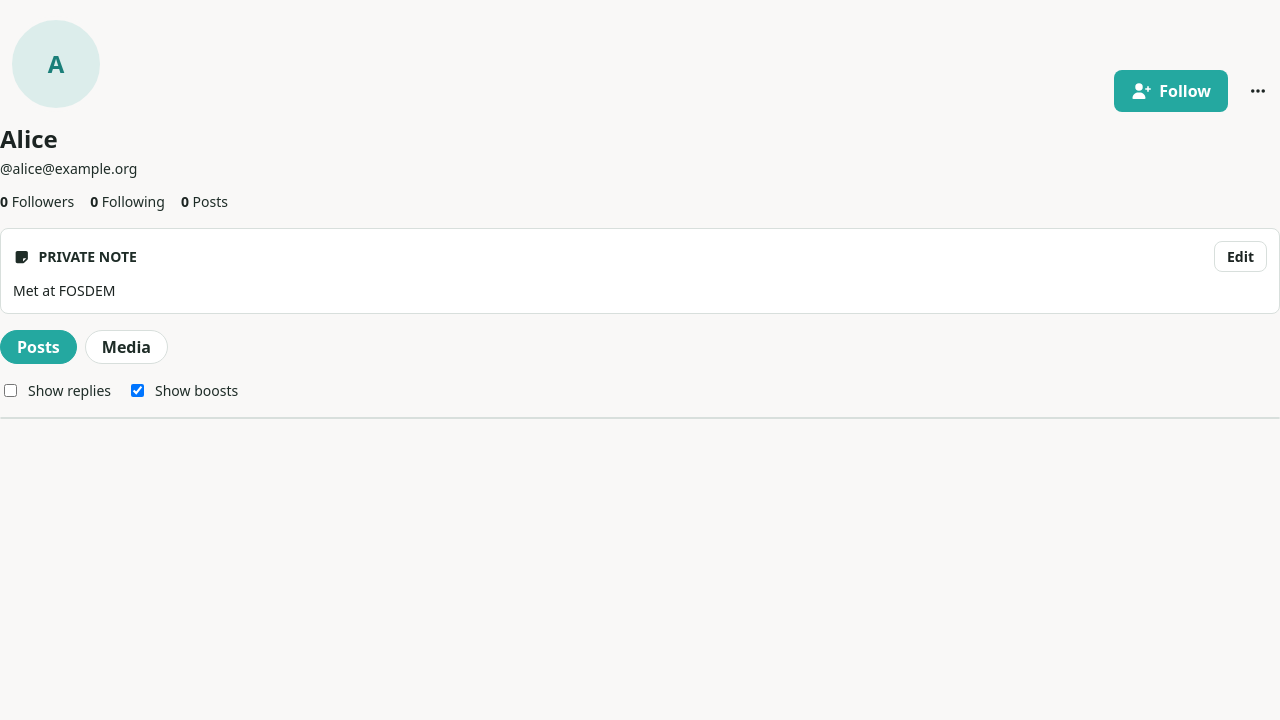
ProfilePage › opens the note editor prefilled, with modal buttons in the footer
Click the button "Edit" at [1240, 256], box [1214, 241, 1267, 272]
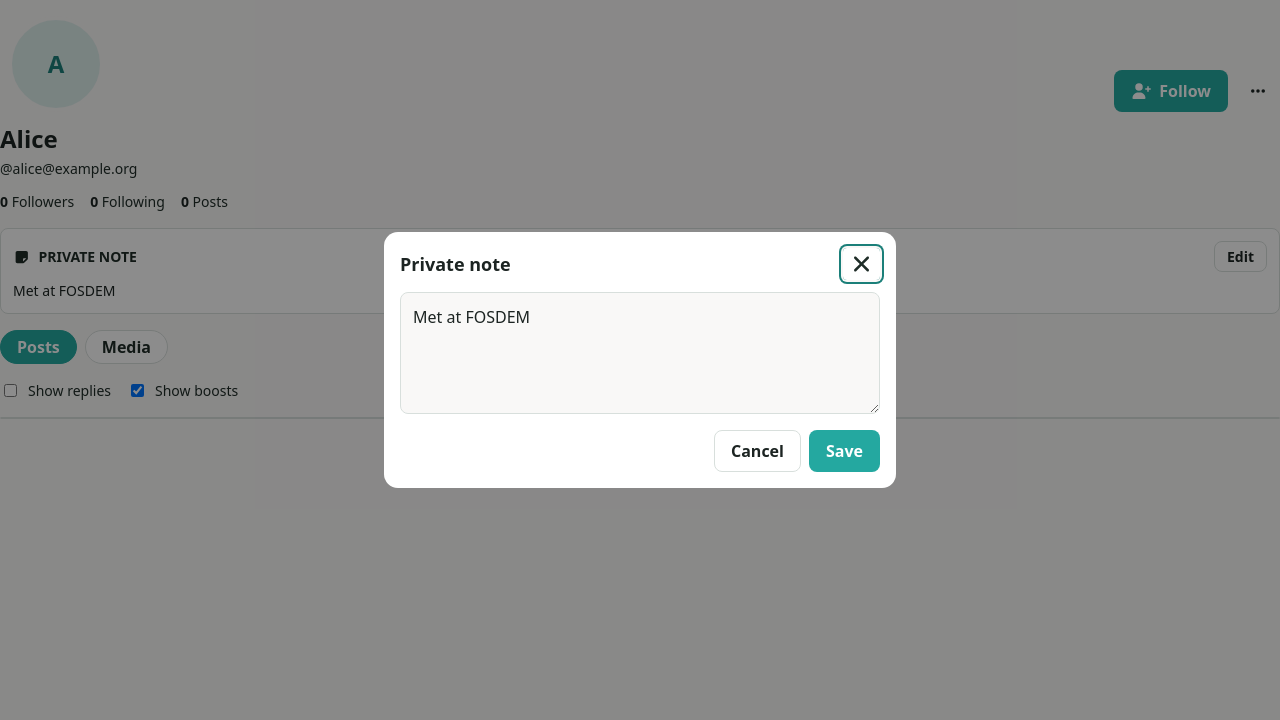
Check: the text box named "Private note" holds "Met at FOSDEM", box [400, 292, 880, 414]
